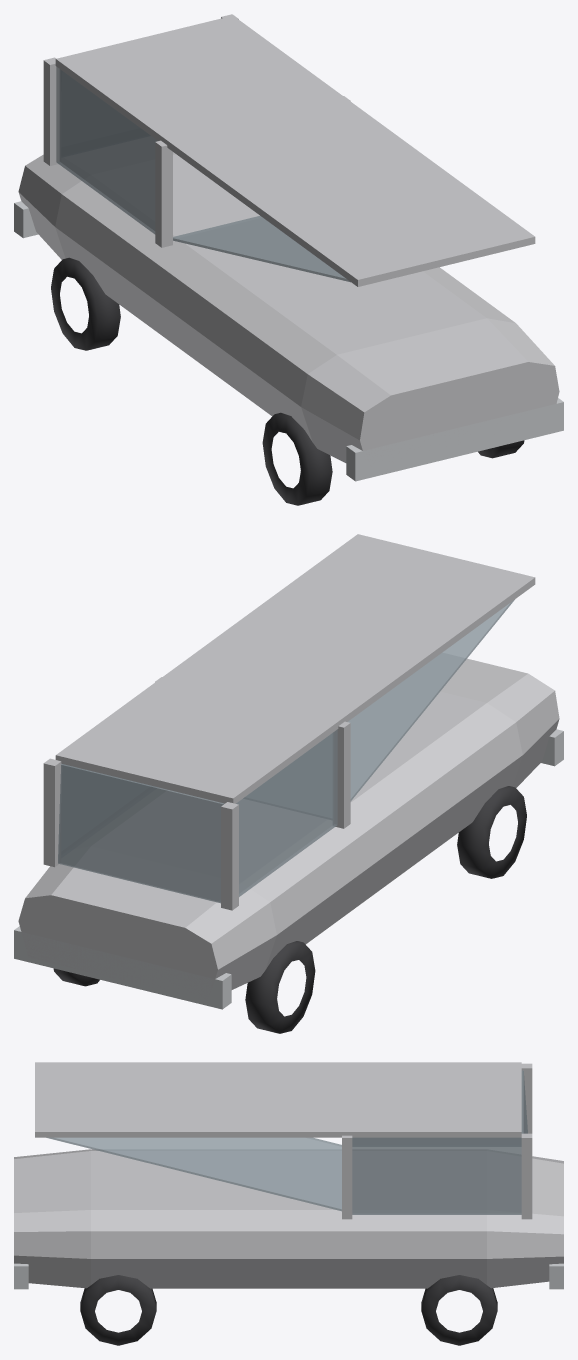
File: van.glb
3 views of the same model, one above another, from view 1: azimuth 30°, elevation 25°; view 2: azimuth 150°, elevation 25°; view 3: azimuth 270°, elevation 25° (orthographic). The views are drawn at different scales.
Visible parts, largest first — view 1: body, glass, wheels, body_trim; view 2: body, glass, wheels, body_trim; view 3: body, glass, wheels, body_trim.
Part boxes in pixels (<box>): body: <box>18,14,559,470</box>; glass: <box>56,67,350,282</box>; wheels: <box>51,257,524,505</box>; body_trim: <box>14,201,563,481</box>; body: <box>18,534,559,1000</box>; glass: <box>58,599,514,903</box>; wheels: <box>53,786,526,1033</box>; body_trim: <box>14,729,563,1009</box>; body: <box>14,1062,563,1288</box>; glass: <box>46,1070,527,1214</box>; wheels: <box>80,1275,497,1345</box>; body_trim: <box>14,1263,563,1289</box>.
Size of the model in its own units: 1.95 by 2.15 by 5.2.
